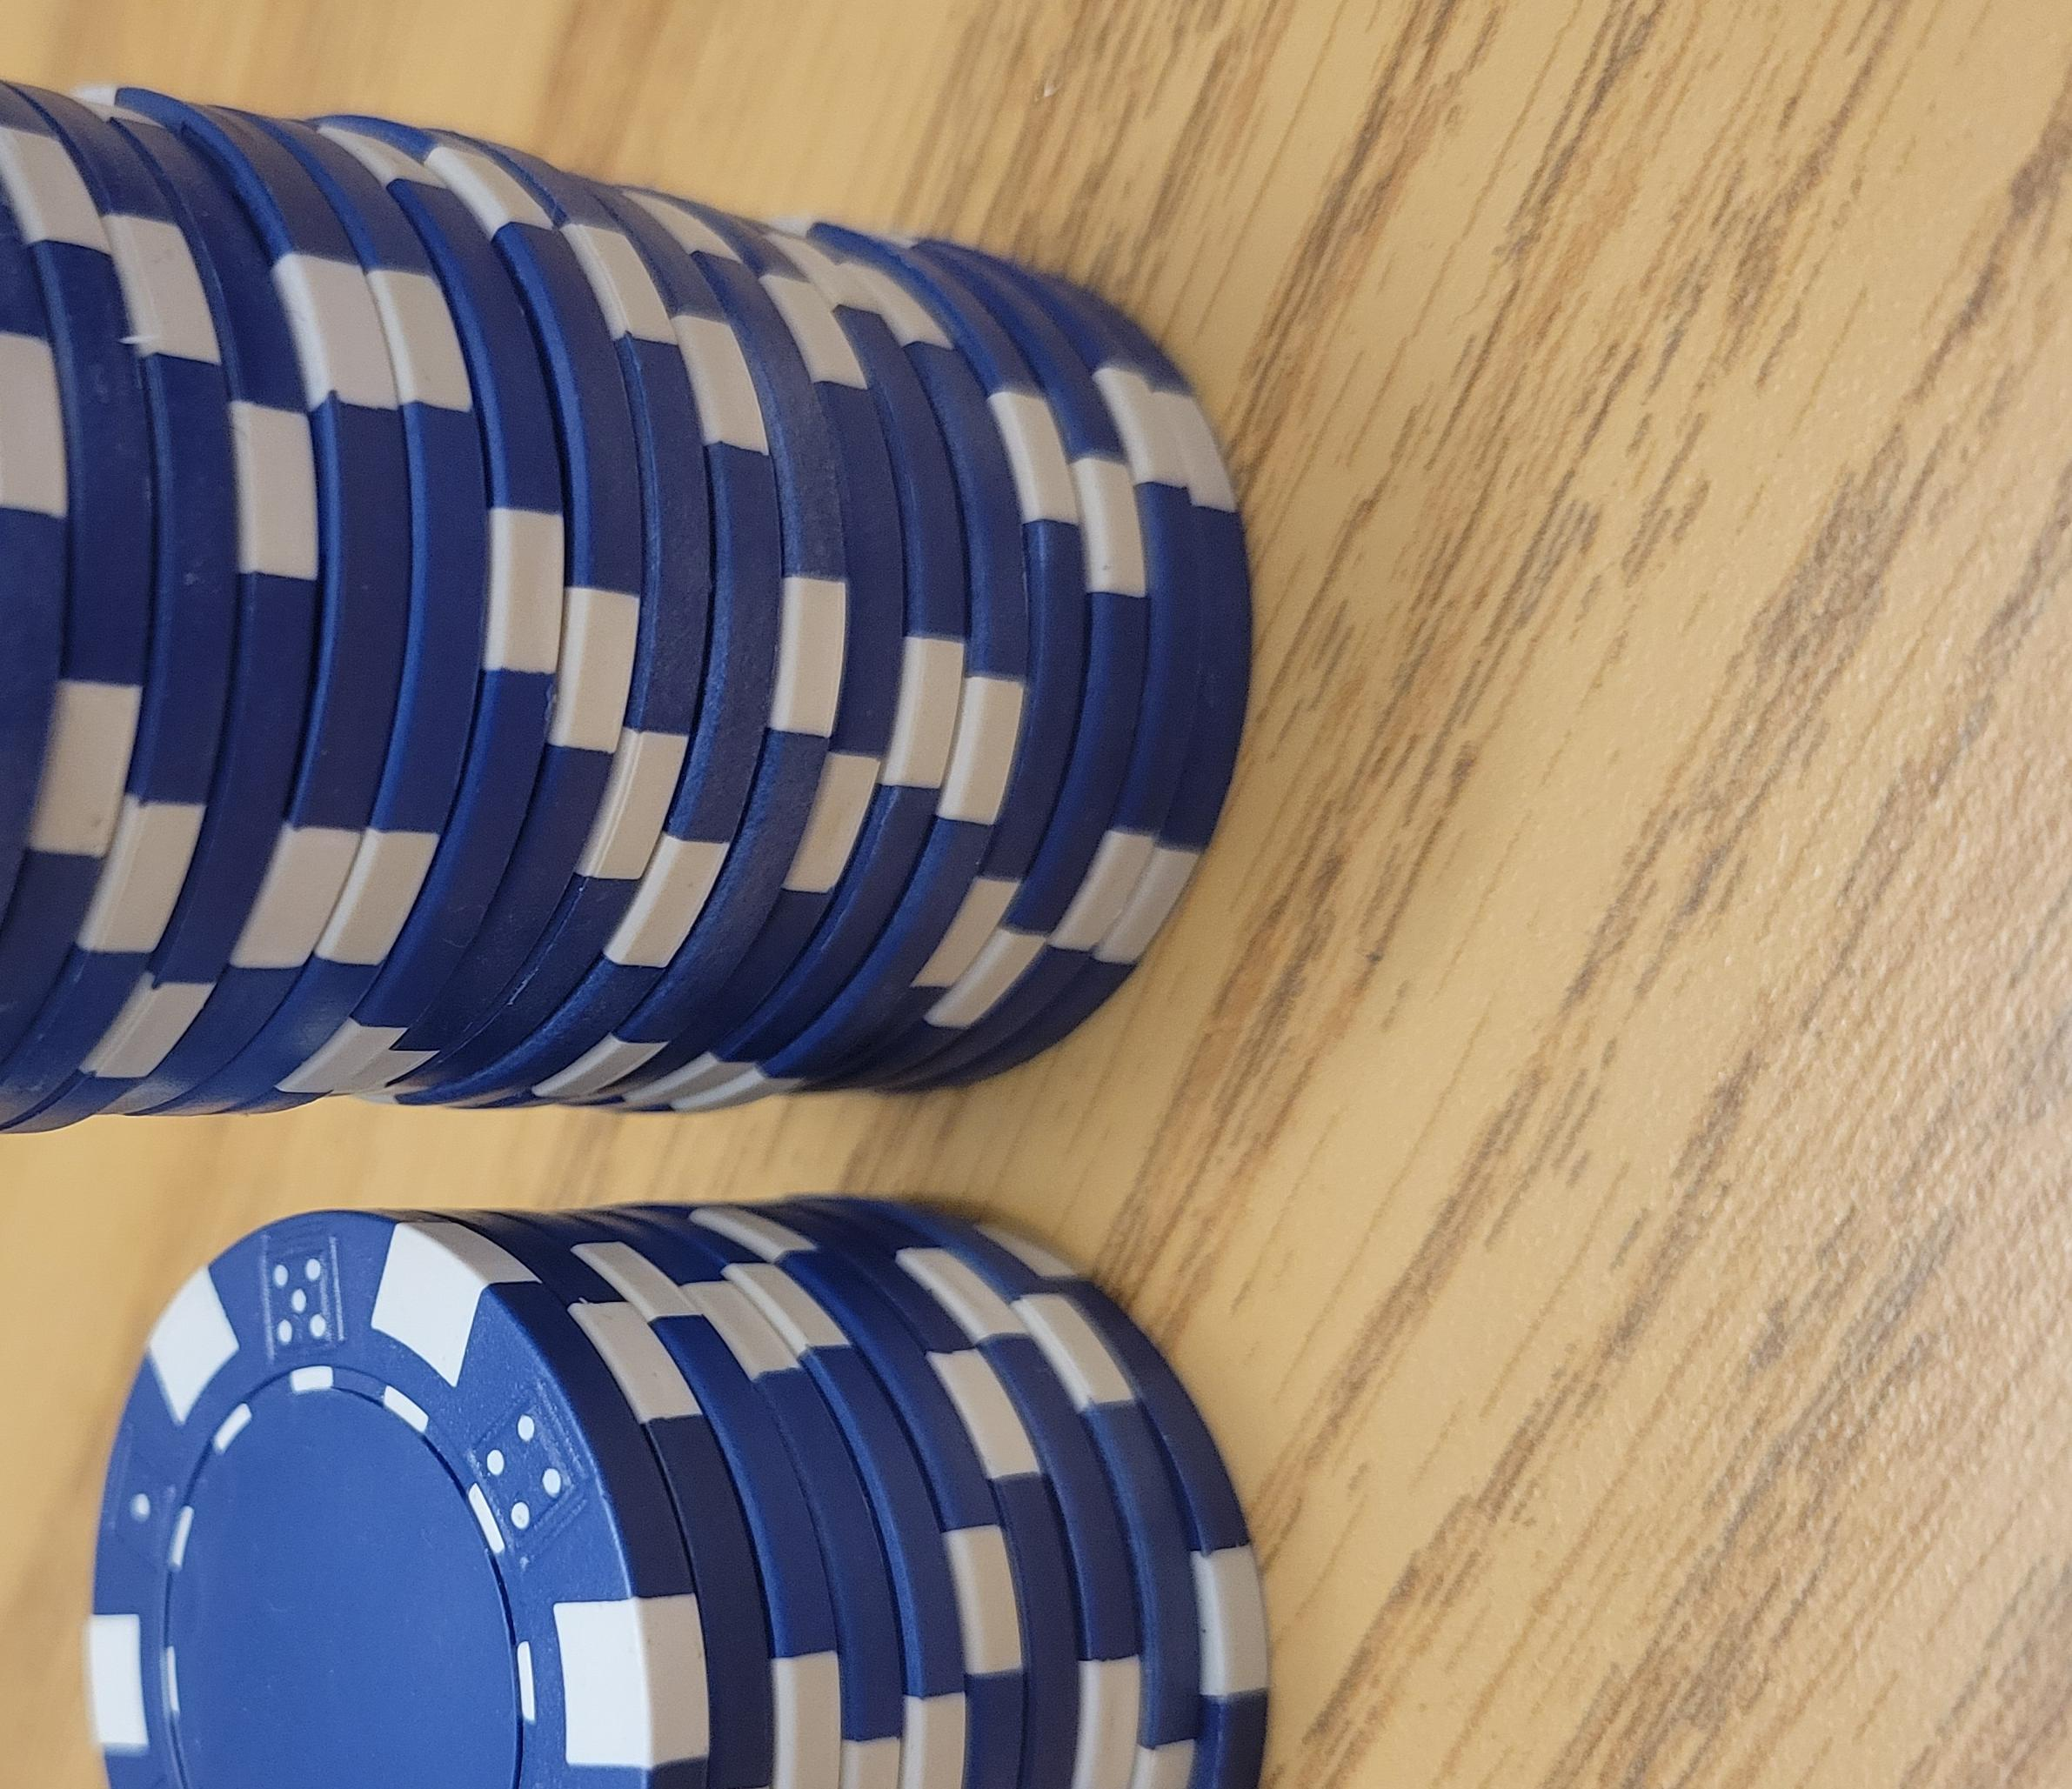Chip: (0, 65, 1207, 1789)
